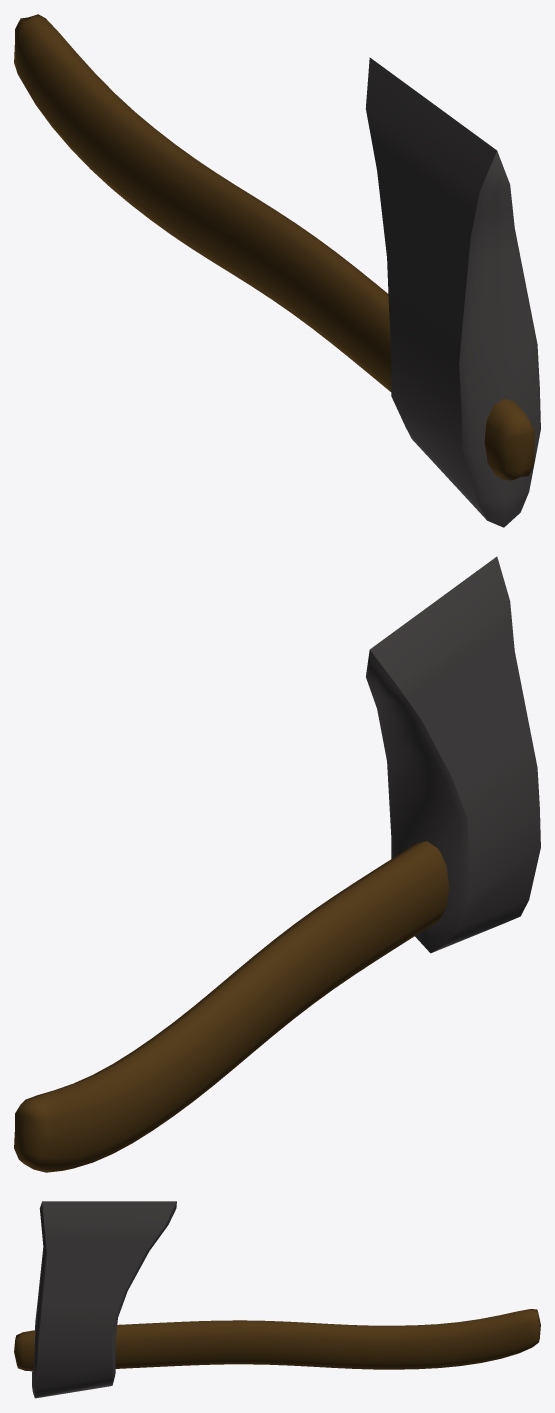
File: SM_Axe.fbx
3 renders of one model, top to bottom at view 1: azimuth 30°, elevation 25°; view 2: azimuth 150°, elevation 25°; view 3: azimuth 270°, elevation 25°, orthographic. The views are drawn at different scales.
Parts seen in each view (by area): view 1: AxeHead, AxeHandle; view 2: AxeHead, AxeHandle; view 3: AxeHandle, AxeHead.
Part boxes in pixels (x1,y1,x2,y2): AxeHead: [365, 57, 540, 527]; AxeHandle: [14, 14, 535, 480]; AxeHead: [366, 556, 540, 953]; AxeHandle: [14, 841, 449, 1172]; AxeHandle: [14, 1309, 540, 1371]; AxeHead: [32, 1201, 176, 1398].
Bounding box in the file's own units: 10 × 45.3 × 110.
